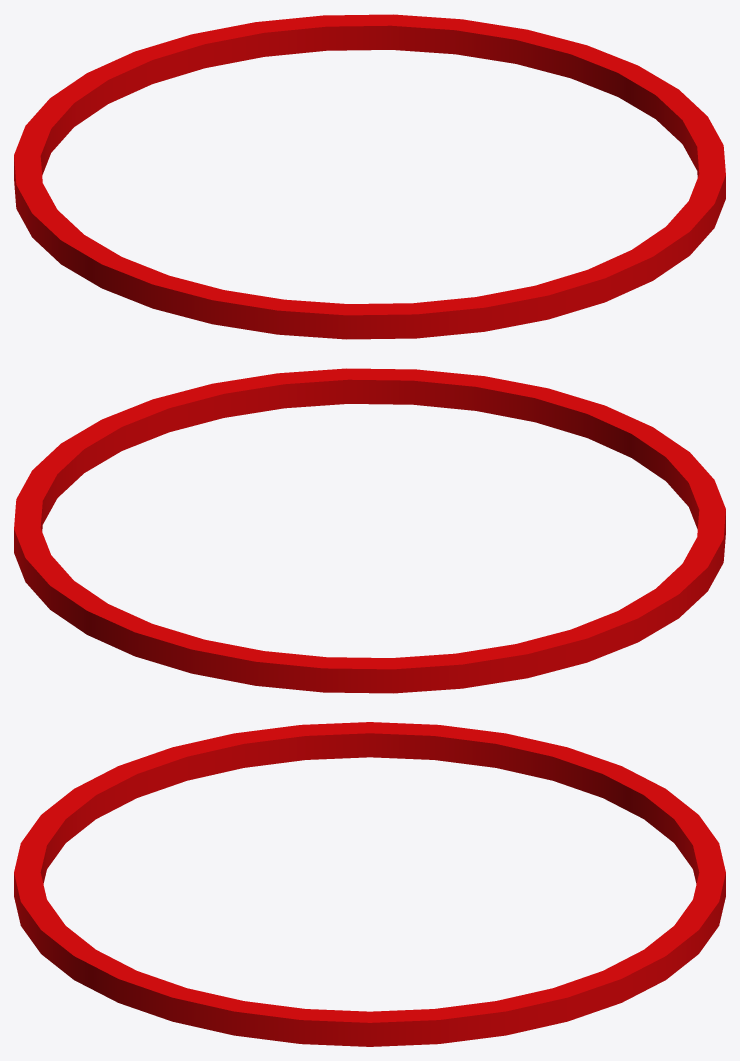
Rendered from OuterRing.fbx.
The picture shows the model from 3 angles, top to bottom: view 1: azimuth 30°, elevation 25°; view 2: azimuth 150°, elevation 25°; view 3: azimuth 270°, elevation 25°; orthographic projection.
Parts seen in each view (by area): view 1: OuterCircle; view 2: OuterCircle; view 3: OuterCircle.
Boxes of the visible parts, x1,y1,x2,y2 form: OuterCircle: (14,14,725,339); OuterCircle: (14,368,725,693); OuterCircle: (14,722,725,1046).
Size of the model in its own units: 2.15 by 0.0801 by 2.15.
